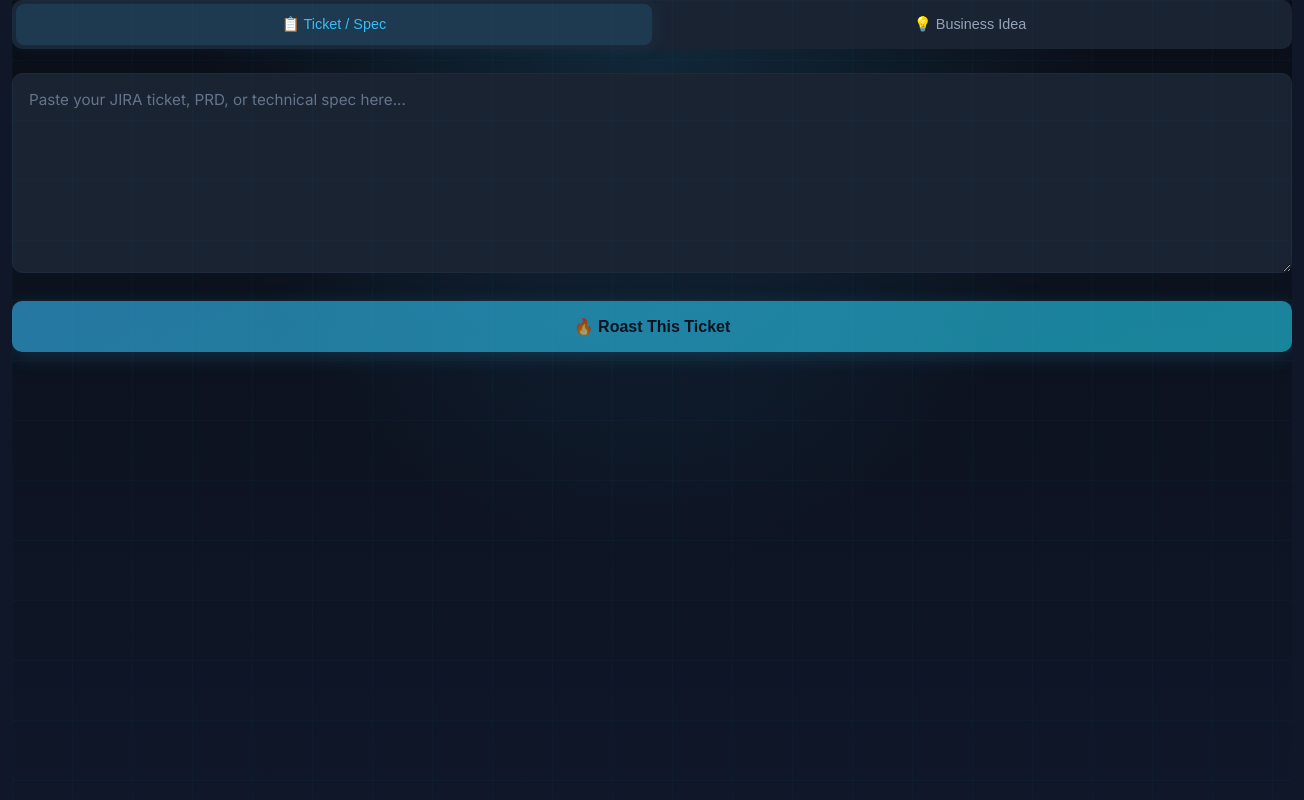
Scenario: AnalysisForm component › should show business button text when business mode is selected
Click the button "💡 Business Idea".
click(970, 24)  # box [652,4,1288,45]
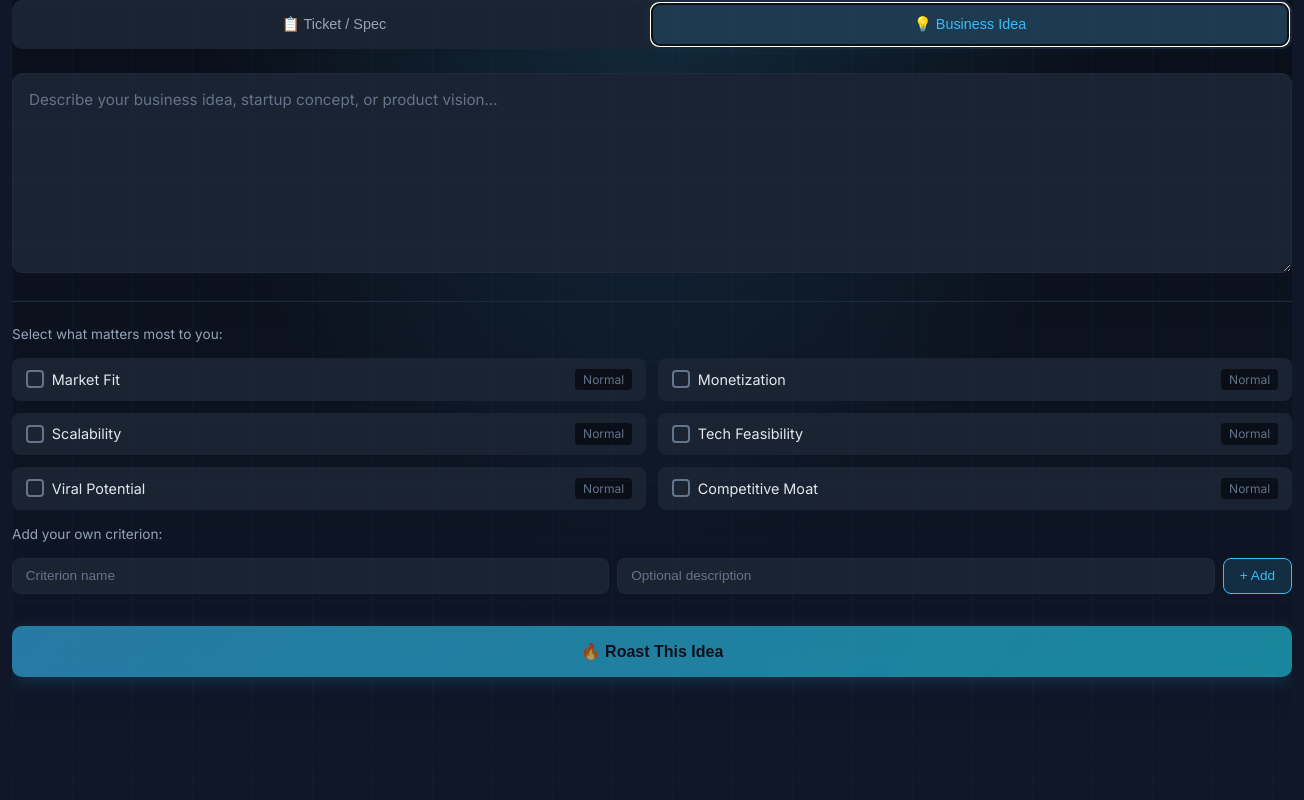
Expected: the button "🔥 Roast This Idea" is shown, [12,626,1292,677]
